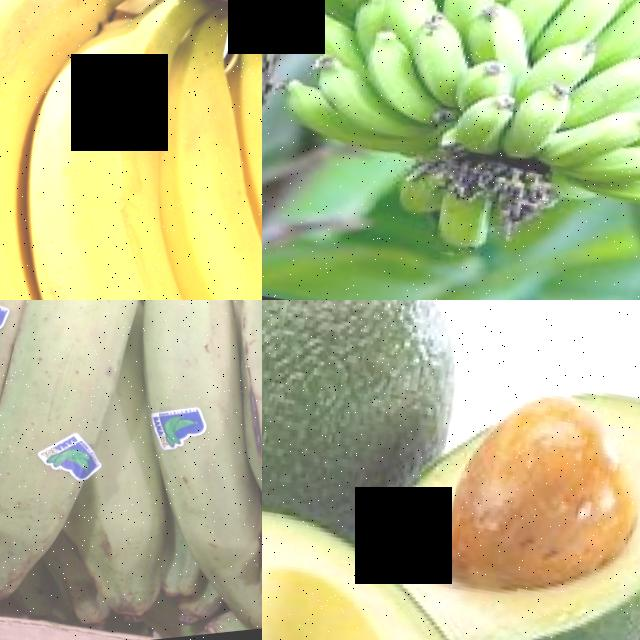avocado: (298, 334, 640, 640), (262, 451, 566, 640), (262, 300, 479, 541)
banana: (262, 0, 640, 300), (0, 0, 262, 300), (0, 300, 196, 623), (150, 300, 262, 594), (0, 300, 67, 566)
